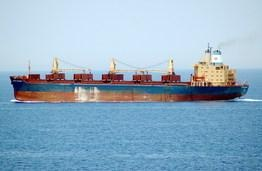Cargoship: (9, 36, 251, 104)
